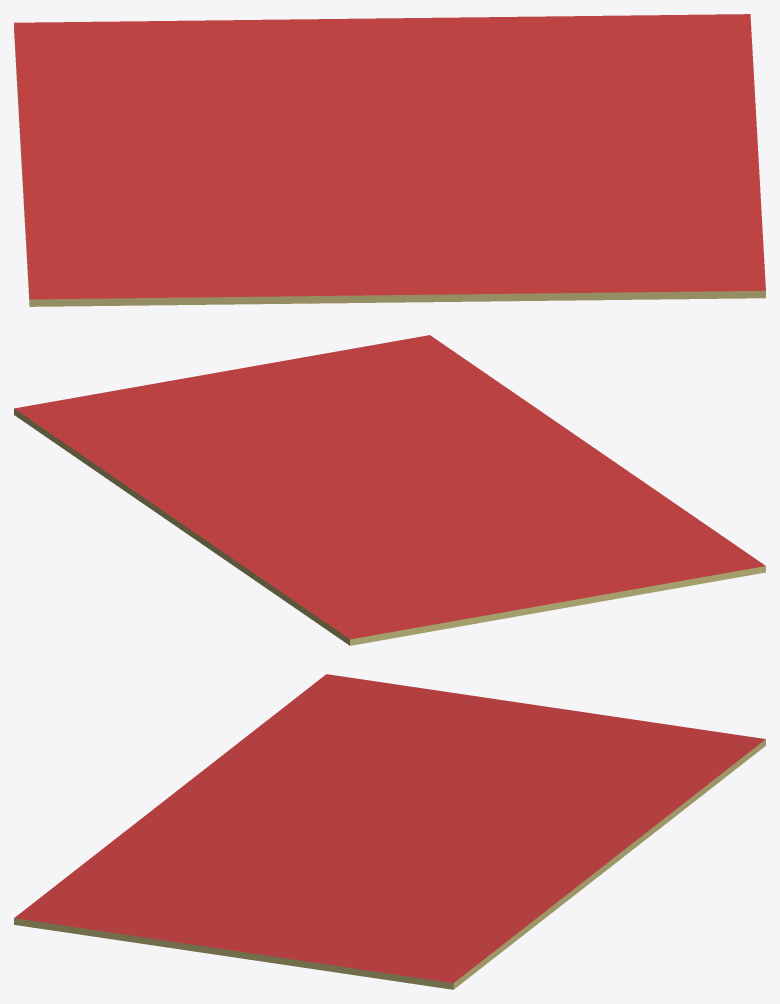
3 views of the same model, one above another, from view 1: azimuth 30°, elevation 25°; view 2: azimuth 150°, elevation 25°; view 3: azimuth 270°, elevation 25° (orthographic). The views are drawn at different scales.
Bounding box in the file's own units: 11.08 × 10.22 × 0.632.
